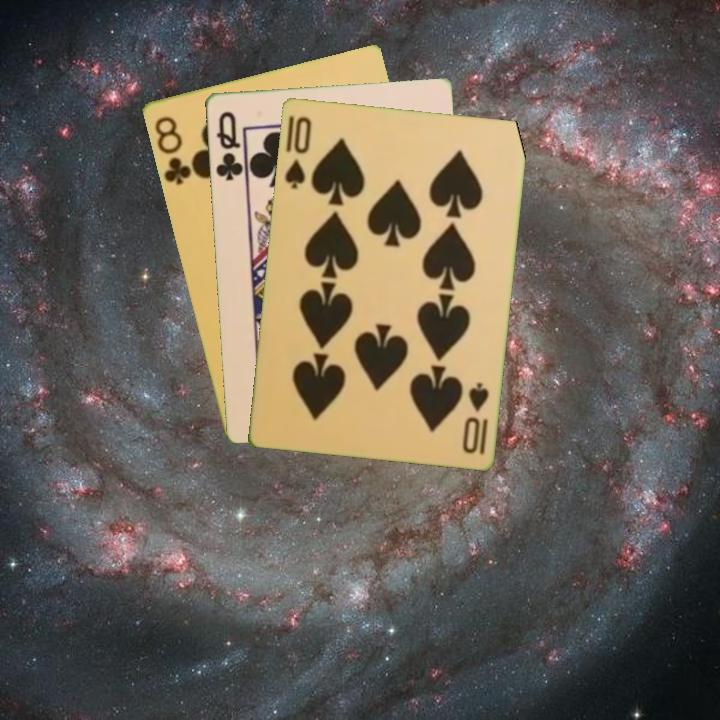10s: (281, 112, 314, 192), (458, 378, 491, 458)
8c: (150, 112, 197, 188)
Qc: (211, 107, 246, 184)
